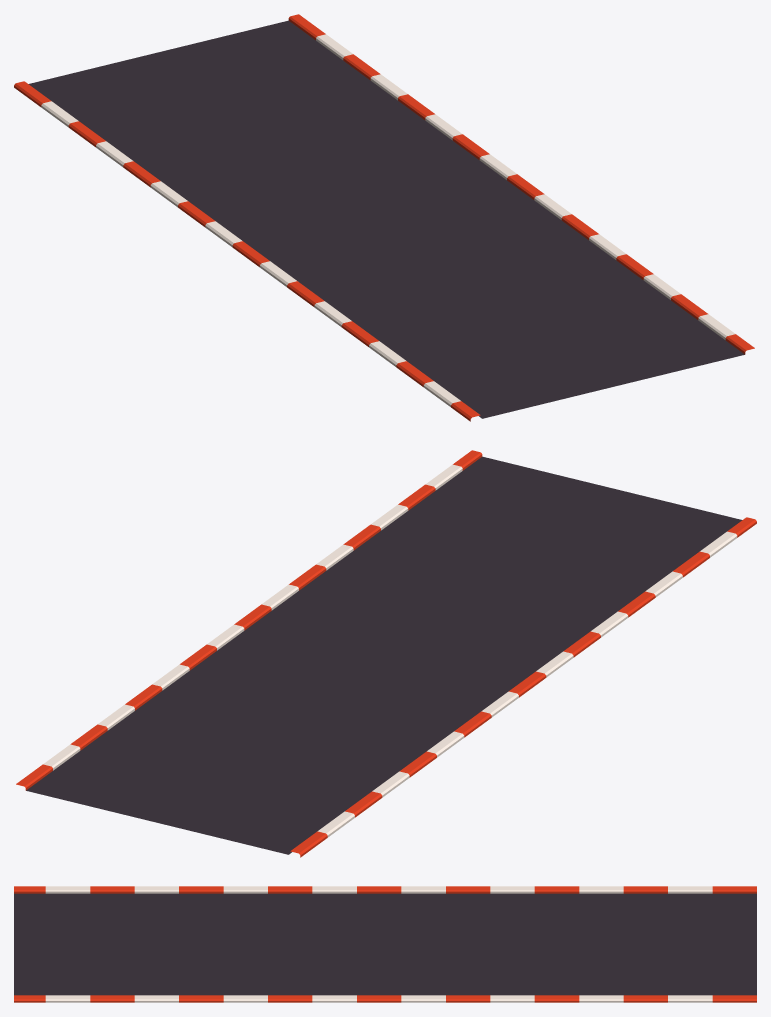
Rendered from 直行道.glb.
3 renders of one model, top to bottom at view 1: azimuth 30°, elevation 25°; view 2: azimuth 150°, elevation 25°; view 3: azimuth 270°, elevation 25°, orthographic. The views are drawn at different scales.
Parts seen in each view (by area): view 1: Road, LeftCurb0, RightCurb0, LeftCurb1, RightCurb1; view 2: Road, LeftCurb0, RightCurb0, LeftCurb1, RightCurb1; view 3: Road, RightCurb0, LeftCurb0, RightCurb1, LeftCurb1.
Boxes of the visible parts, x1=… form: Road: x1=28, y1=20, x2=744, y2=418; LeftCurb0: x1=14, y1=81, x2=480, y2=421; RightCurb0: x1=288, y1=14, x2=754, y2=354; LeftCurb1: x1=41, y1=101, x2=460, y2=406; RightCurb1: x1=316, y1=34, x2=735, y2=339; Road: x1=26, y1=456, x2=742, y2=854; LeftCurb0: x1=290, y1=517, x2=756, y2=857; RightCurb0: x1=16, y1=450, x2=482, y2=790; LeftCurb1: x1=317, y1=531, x2=737, y2=837; RightCurb1: x1=43, y1=464, x2=462, y2=770; Road: x1=14, y1=893, x2=756, y2=995; RightCurb0: x1=14, y1=995, x2=756, y2=1002; LeftCurb0: x1=14, y1=886, x2=756, y2=893; RightCurb1: x1=45, y1=995, x2=712, y2=1002; LeftCurb1: x1=45, y1=886, x2=712, y2=893.
Bounding box in the file's own units: 10.9 × 0.14 × 30.09.
